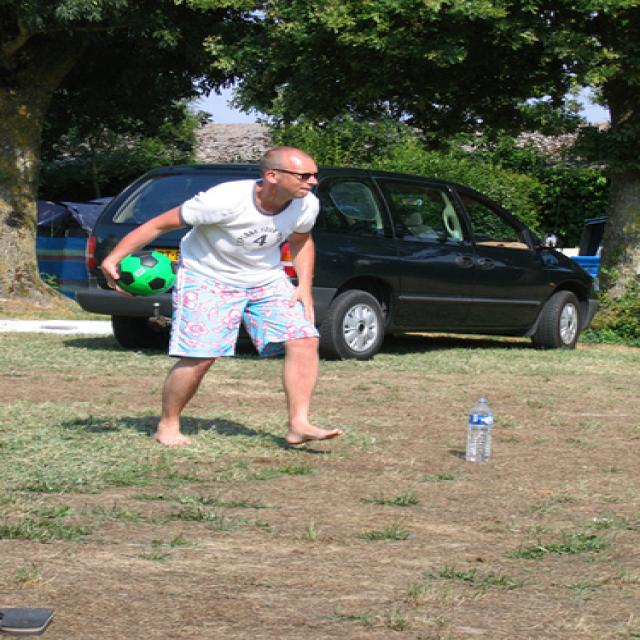light_vehicle: (75, 161, 597, 360)
